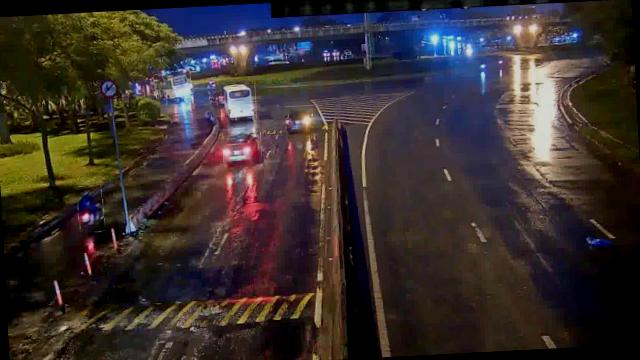Bike: (76, 184, 104, 232)
Bus: (219, 82, 257, 120), (154, 69, 192, 98)
Car: (222, 127, 262, 167), (284, 105, 314, 131)
